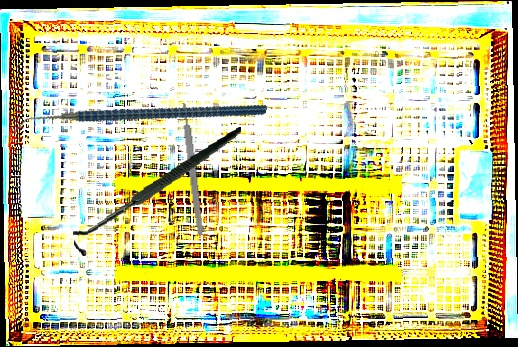Chopper: (10, 36, 268, 204)
Hook Surgical: (63, 127, 253, 257)
Scalpel Handle: (180, 102, 205, 236)
